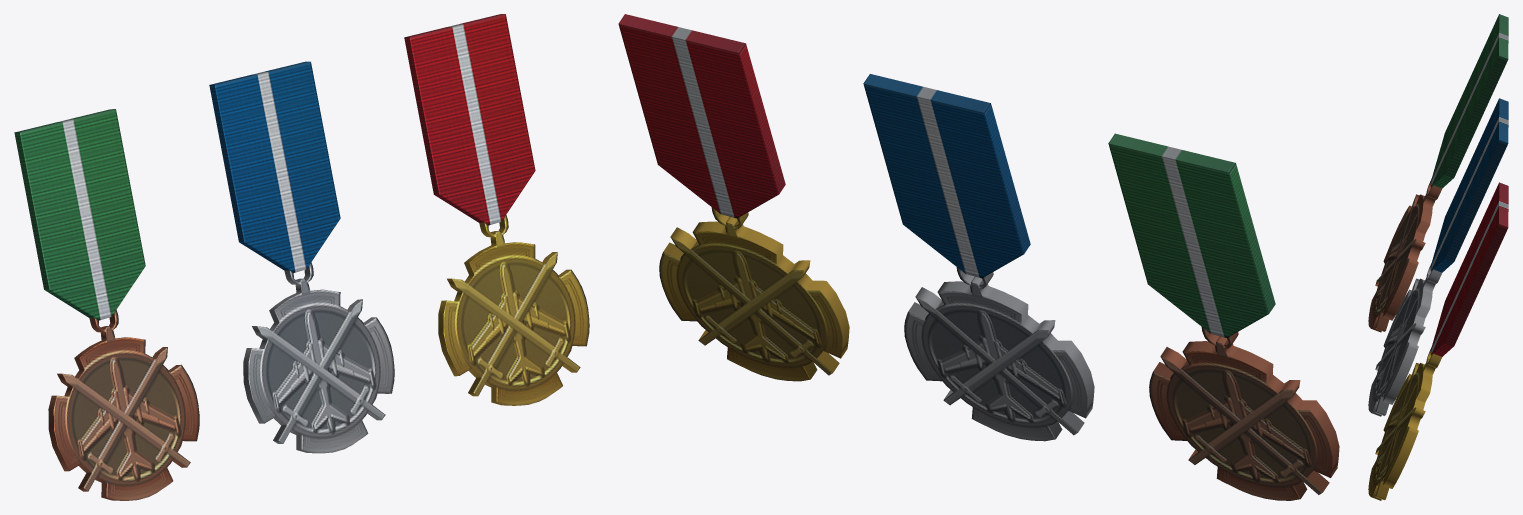
File: medals.glb
The picture shows the model from 3 angles, left to right: view 1: azimuth 30°, elevation 25°; view 2: azimuth 150°, elevation 25°; view 3: azimuth 270°, elevation 25°; orthographic projection. The views are drawn at different scales.
Visible parts, largest first — view 1: Ace Combat 7 Ace Silver, Ace Combat 7 Ace Gold, Ace Combat 7 Ace Bronze; view 2: Ace Combat 7 Ace Gold, Ace Combat 7 Ace Silver, Ace Combat 7 Ace Bronze; view 3: Ace Combat 7 Ace Gold, Ace Combat 7 Ace Silver, Ace Combat 7 Ace Bronze.
Part boxes in pixels (<box>): Ace Combat 7 Ace Silver: <box>209,61,394,453</box>; Ace Combat 7 Ace Gold: <box>404,14,589,405</box>; Ace Combat 7 Ace Bronze: <box>14,109,199,500</box>; Ace Combat 7 Ace Gold: <box>618,14,849,381</box>; Ace Combat 7 Ace Silver: <box>863,74,1094,441</box>; Ace Combat 7 Ace Bronze: <box>1108,133,1339,500</box>; Ace Combat 7 Ace Gold: <box>1368,182,1508,500</box>; Ace Combat 7 Ace Silver: <box>1368,98,1508,416</box>; Ace Combat 7 Ace Bronze: <box>1368,14,1508,332</box>.
Bounding box in the file's own units: 1.64 × 0.9662 × 0.4219.
Materials: 3 (3 with a texture image).
